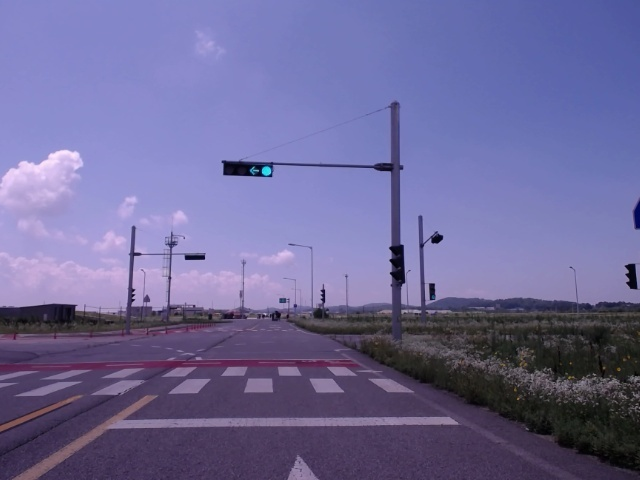all_green_4: (222, 160, 273, 177)
